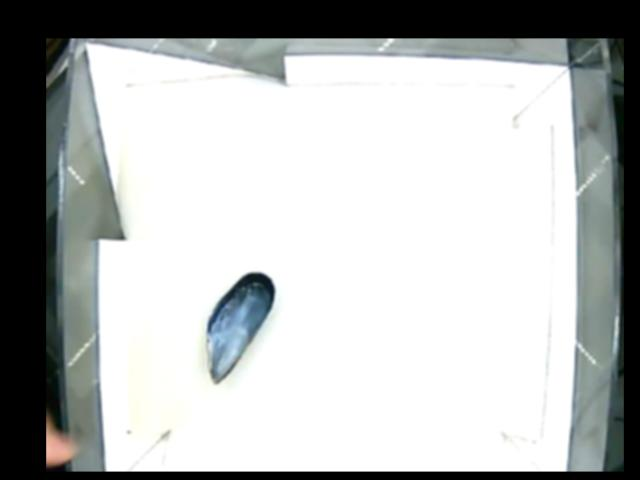Shell: (204, 267, 277, 383)
